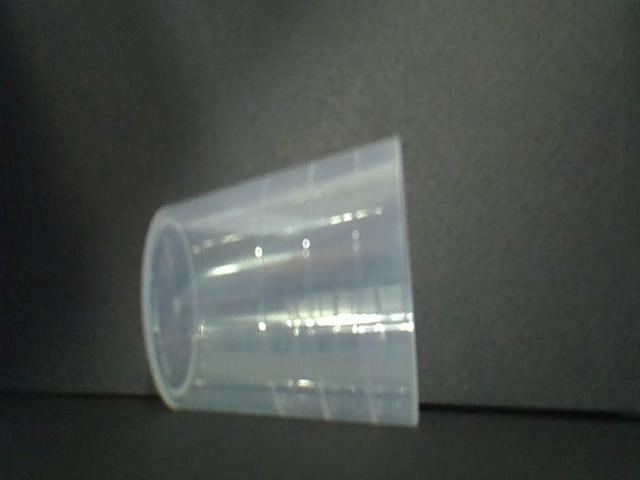cup: (136, 128, 437, 437)
